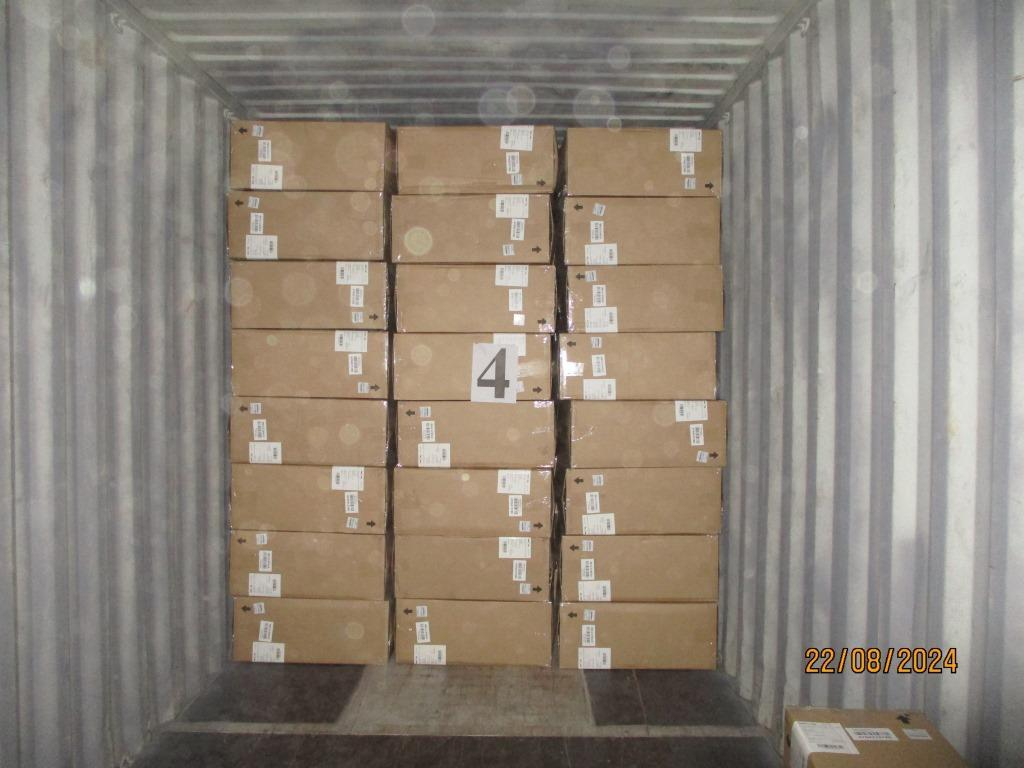carton: (230, 118, 395, 192), (394, 262, 556, 333), (391, 193, 553, 264), (396, 123, 556, 194), (229, 396, 389, 467), (562, 400, 726, 469), (227, 189, 384, 261), (230, 328, 389, 399), (229, 259, 390, 329), (393, 467, 554, 537), (230, 463, 388, 534), (392, 331, 552, 401), (562, 195, 719, 266), (228, 529, 385, 600), (563, 127, 722, 197), (556, 330, 715, 400), (395, 400, 555, 469), (230, 595, 389, 664), (563, 466, 722, 534), (559, 601, 717, 669), (395, 598, 553, 666), (560, 533, 718, 601), (565, 264, 722, 332), (394, 533, 553, 600)
